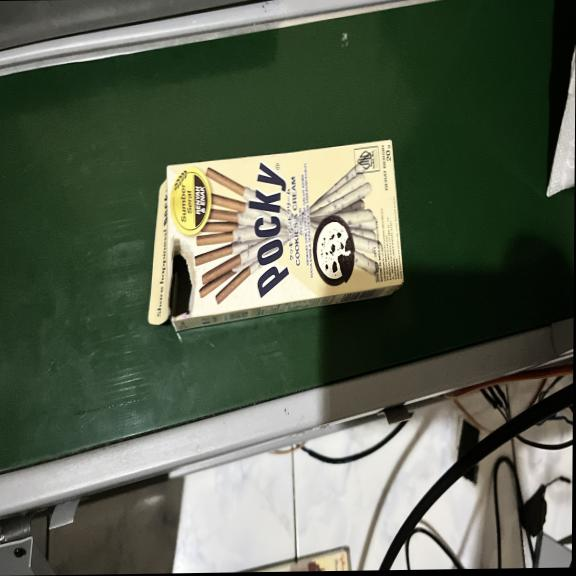Kertas: (168, 130, 407, 322)
